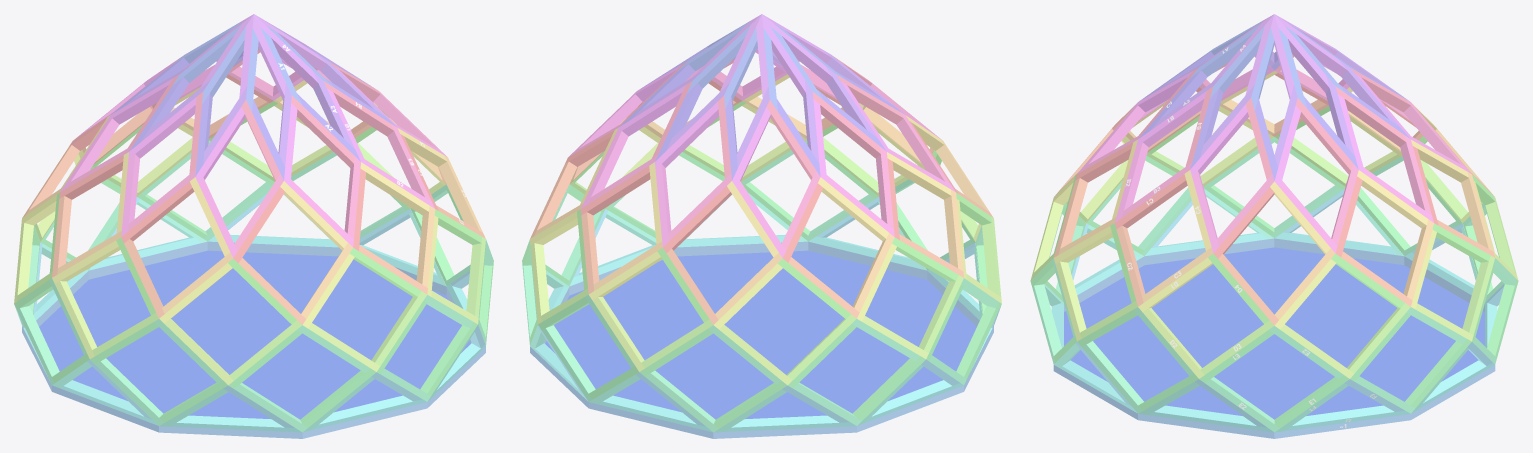
Rendered from Z5omes_20240515_200617_N10NzQ3NQ_skeleton.gltf.
3 renders of one model, left to right at view 1: azimuth 30°, elevation 25°; view 2: azimuth 150°, elevation 25°; view 3: azimuth 270°, elevation 25°, orthographic.
Parts seen in each view (by area): view 1: ⬢, E2_7 (×3), F2_7 (×2), F2_8 (×2), E2_8 (×2), E1_8 (×2), E1_7 (×2), B1_8 (×2), B4_10 (×2), D2_7 (×2), ~1_7, ~1_3 (+65 smaller); view 2: ⬢, E1_5 (×3), F2_4 (×2), F2_3 (×2), E1_4 (×2), E2_4 (×2), E2_5 (×2), B4_7 (×2), B1_5 (×2), D3_6 (×2), ~1_4, ~1_8 (+66 smaller); view 3: ⬢, E1_2 (×3), E2_10 (×3), F2_10 (×2), F2_1 (×2), E1_1 (×2), E2_1 (×2), B4_4 (×2), ~1_5, ~1_6, E1_10 (×2), E2_2 (×2) (+74 smaller).
Part boxes in pixels (x1,y1,x2,y2): ⬢: [39, 250, 470, 419]; E2_7 (×3): [95, 319, 222, 425]; F2_7 (×2): [170, 415, 301, 432]; F2_8 (×2): [312, 395, 426, 429]; E2_8 (×2): [234, 325, 370, 432]; E1_8 (×2): [228, 330, 376, 427]; E1_7 (×2): [90, 322, 227, 422]; B1_8 (×2): [128, 97, 196, 159]; B4_10 (×2): [291, 96, 354, 167]; D2_7 (×2): [55, 281, 96, 358]; ~1_7: [159, 426, 302, 438]; ~1_3: [88, 241, 207, 279]; ⬢: [545, 250, 976, 419]; E1_5 (×3): [788, 324, 925, 420]; F2_4 (×2): [725, 415, 855, 431]; F2_3 (×2): [598, 395, 712, 432]; E1_4 (×2): [639, 329, 787, 428]; E2_4 (×2): [645, 325, 781, 432]; E2_5 (×2): [793, 319, 920, 425]; B4_7 (×2): [812, 92, 880, 158]; B1_5 (×2): [655, 101, 718, 169]; D3_6 (×2): [919, 275, 963, 352]; ~1_4: [713, 426, 856, 438]; ~1_8: [808, 241, 927, 279]; ⬢: [1064, 247, 1484, 419]; E1_2 (×3): [1350, 312, 1471, 407]; E2_10 (×3): [1082, 307, 1193, 413]; F2_10 (×2): [1148, 405, 1273, 432]; F2_1 (×2): [1285, 405, 1410, 430]; E1_1 (×2): [1199, 330, 1349, 428]; E2_1 (×2): [1205, 326, 1343, 432]; B4_4 (×2): [1335, 86, 1405, 146]; ~1_5: [1274, 238, 1404, 264]; ~1_6: [1144, 238, 1274, 264]; E1_10 (×2): [1077, 309, 1198, 410]; E2_2 (×2): [1355, 307, 1466, 413].
Bounding box in the file's own units: 2.6 × 2.02 × 2.73.
